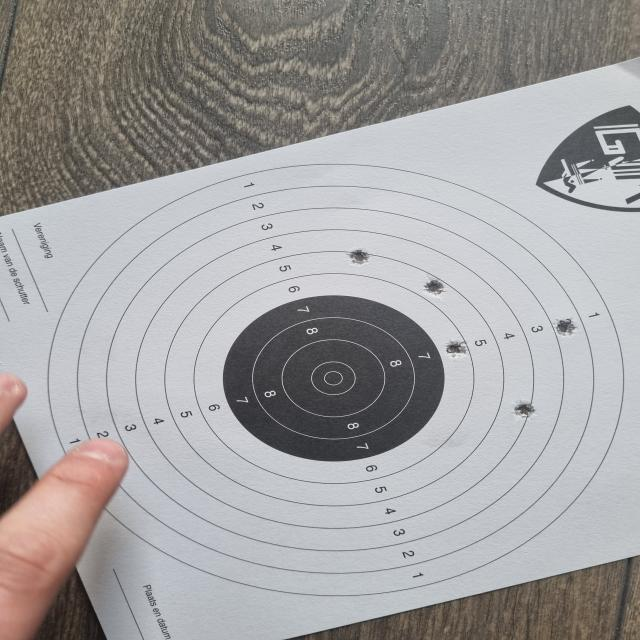2: (555, 320, 578, 336)
4: (513, 403, 535, 418)
5: (346, 250, 373, 264), (424, 280, 446, 295)
6: (445, 340, 469, 358)
Target: (40, 162, 622, 598)
black_contour: (223, 294, 446, 461)
